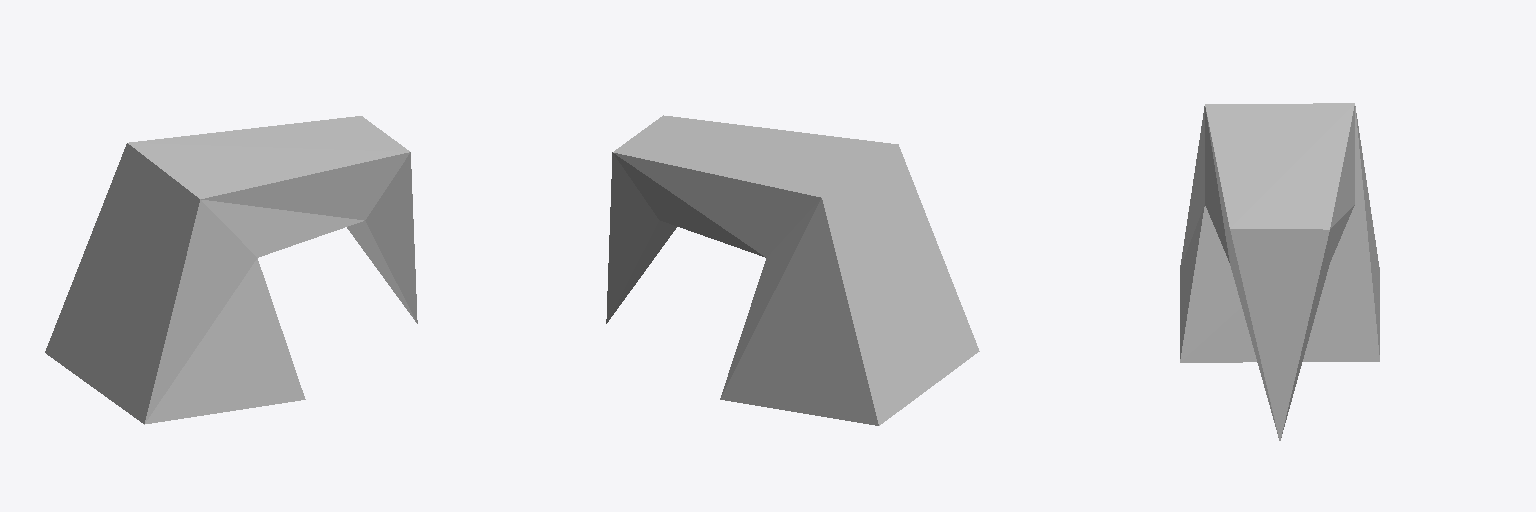
Rendered from skeletal_000020.obj.
The picture shows the model from 3 angles: view 1: azimuth 30°, elevation 25°; view 2: azimuth 150°, elevation 25°; view 3: azimuth 270°, elevation 25°; orthographic projection.
Visible parts, largest first — view 1: Cube; view 2: Cube; view 3: Cube.
Boxes of the visible parts, <box> form: Cube: <box>45,116,417,424</box>; Cube: <box>606,115,979,425</box>; Cube: <box>1180,103,1379,440</box>.
Bounding box in the file's own units: 3.73 × 2.38 × 2.